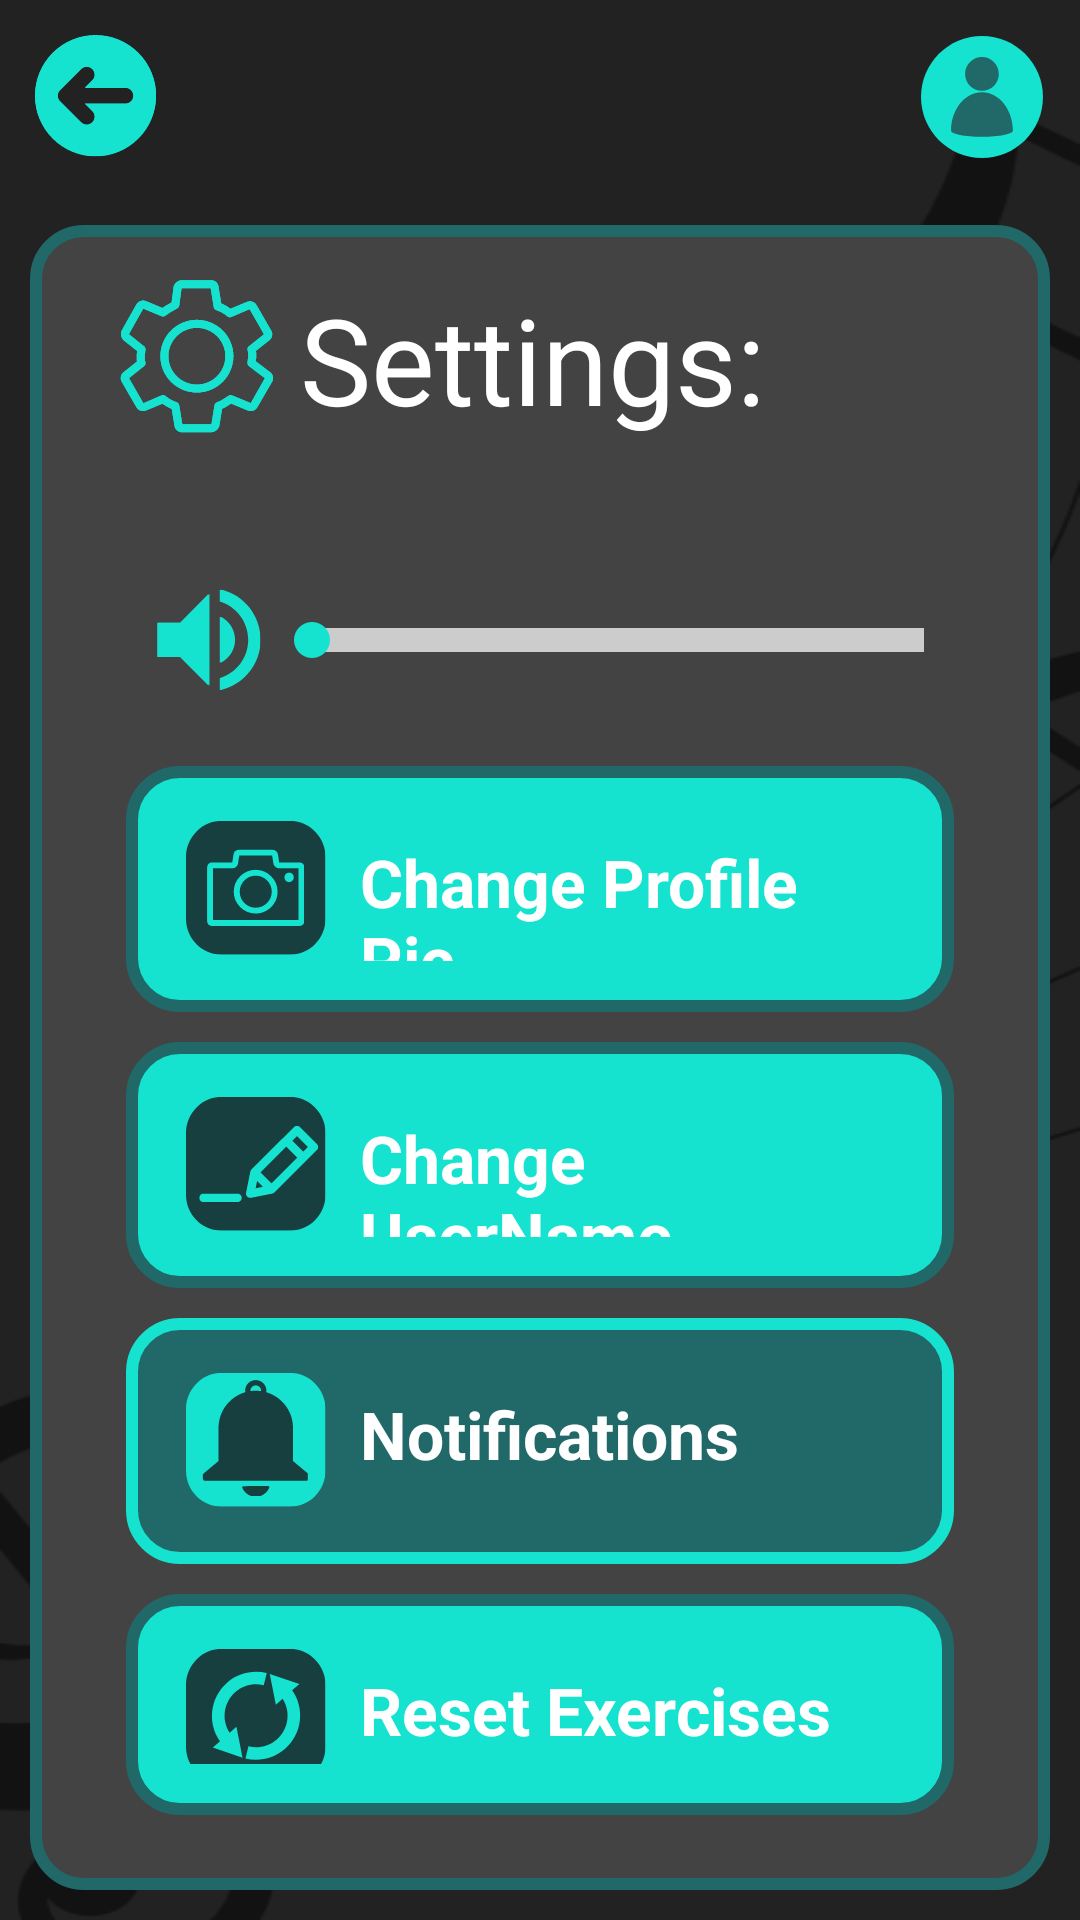

Screen size 1080px×1920px. Icon name, then its center in pixels as point (x, y):
back: point (95, 96)
profile: point (982, 97)
reset stats: point (256, 1706)
volume: point (209, 640)
